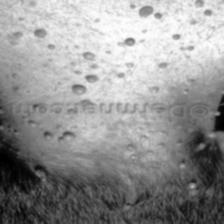Unclassified: (66, 82, 90, 96), (32, 28, 46, 39)
